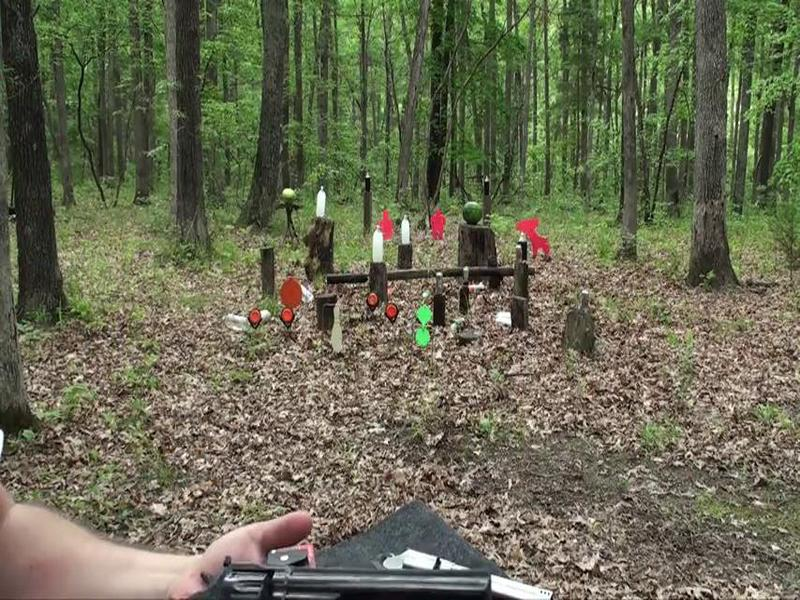Revolver: (128, 510, 530, 600)
